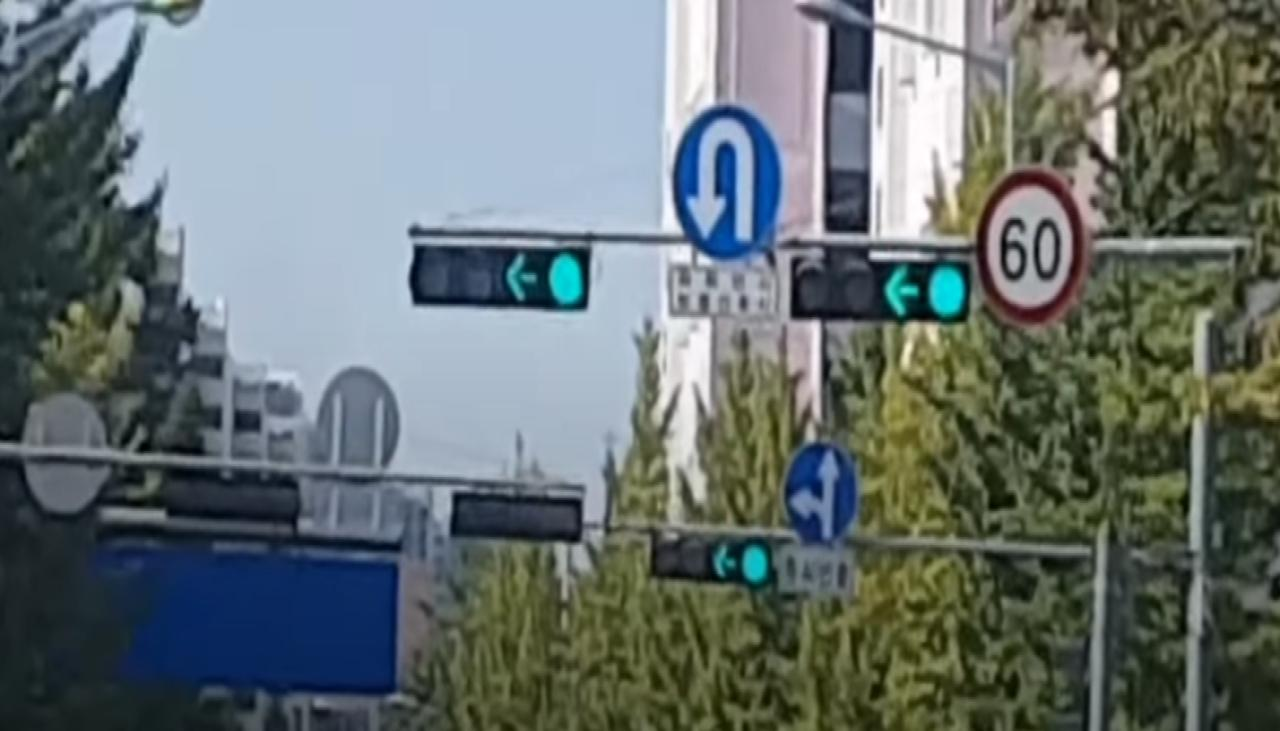Green Light: (925, 262, 970, 320), (547, 251, 587, 307), (740, 539, 770, 586)
Left turn: (500, 242, 543, 308), (878, 260, 922, 321), (708, 536, 738, 582)
